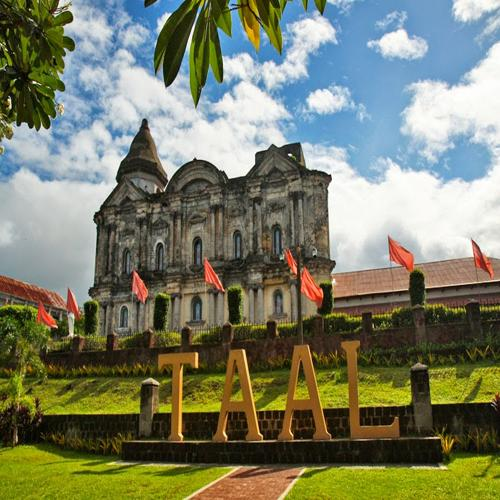Taal Basilica Church: (88, 112, 346, 330)
